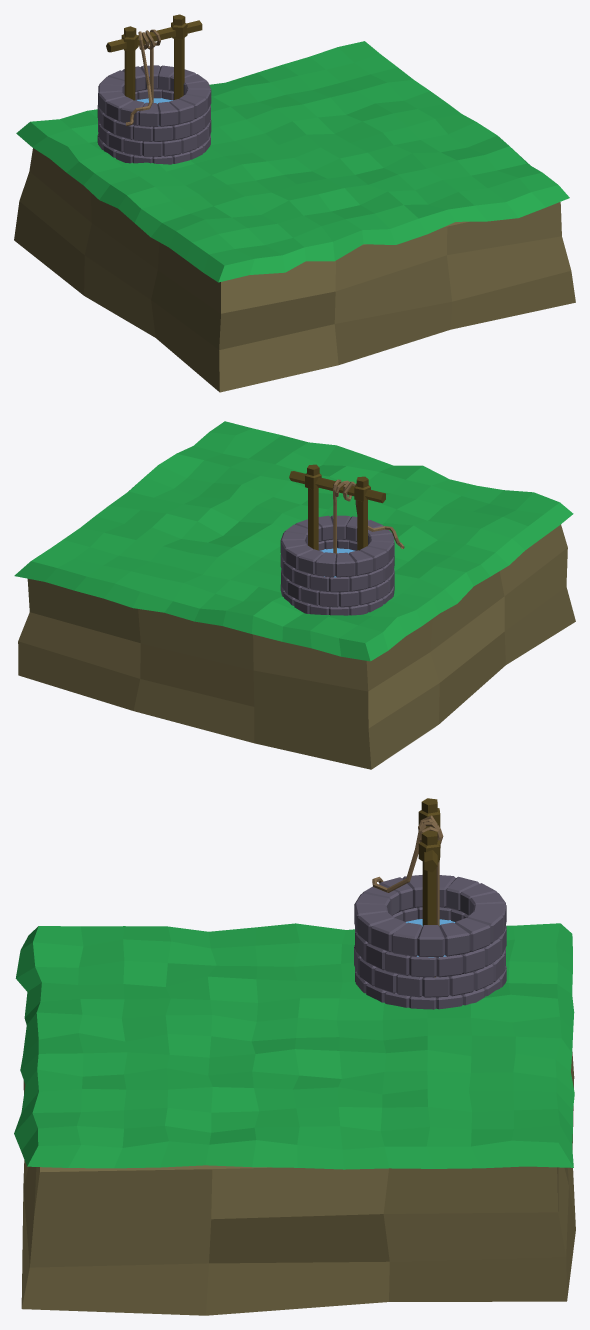
The model's file is well.fbx.
The picture shows the model from 3 angles, top to bottom: view 1: azimuth 30°, elevation 25°; view 2: azimuth 150°, elevation 25°; view 3: azimuth 270°, elevation 25°; orthographic projection. The views are drawn at different scales.
Parts seen in each view (by area): view 1: Grid, Cube.001, WellLayer3, WellLayer2, WellStick, WellLayer1, WellLayer0, Rope, Cylinder; view 2: Grid, Cube.001, WellLayer3, WellLayer2, WellStick, WellLayer1, WellLayer0, Rope, Cylinder; view 3: Grid, Cube.001, WellLayer3, WellLayer2, WellLayer1, WellLayer0, WellStick, Rope.
Boxes of the visible parts, bbox=[...] form: Grid: bbox=[16, 41, 569, 282]; Cube.001: bbox=[14, 148, 575, 392]; WellLayer3: bbox=[98, 65, 211, 126]; WellLayer2: bbox=[97, 88, 210, 141]; WellStick: bbox=[121, 14, 187, 100]; WellLayer1: bbox=[98, 120, 211, 156]; WellLayer0: bbox=[97, 134, 210, 164]; Rope: bbox=[125, 29, 160, 125]; Cylinder: bbox=[106, 20, 202, 52]; Grid: bbox=[14, 421, 573, 661]; Cube.001: bbox=[18, 524, 575, 769]; WellLayer3: bbox=[280, 515, 394, 577]; WellLayer2: bbox=[280, 538, 394, 592]; WellStick: bbox=[305, 464, 370, 550]; WellLayer1: bbox=[281, 569, 394, 607]; WellLayer0: bbox=[280, 584, 394, 615]; Rope: bbox=[332, 479, 404, 554]; Cylinder: bbox=[289, 471, 385, 503]; Grid: bbox=[14, 923, 574, 1169]; Cube.001: bbox=[21, 1052, 575, 1315]; WellLayer3: bbox=[354, 875, 506, 956]; WellLayer2: bbox=[355, 906, 506, 977]; WellLayer1: bbox=[354, 945, 505, 997]; WellLayer0: bbox=[355, 966, 506, 1009]; WellStick: bbox=[418, 798, 440, 977]; Rope: bbox=[372, 815, 443, 926].
Bounding box in the file's own units: 2817 × 1816 × 2858.
